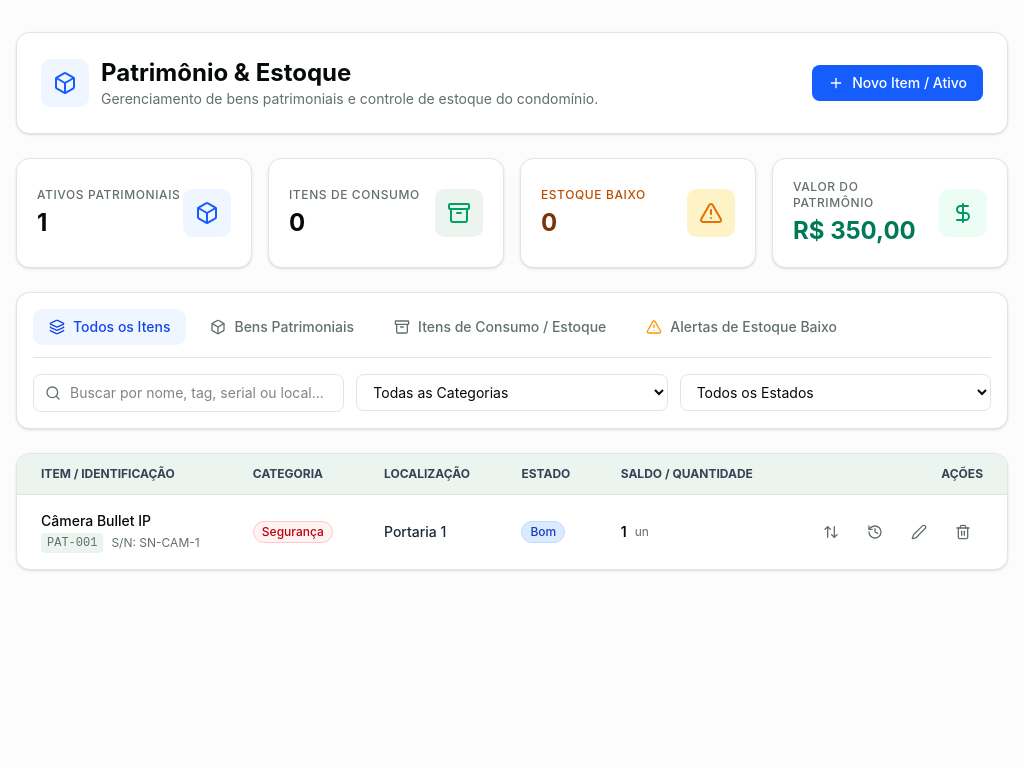
Scenario: AssetsInventoryPage component › opens history modal on history action click
The image size is (1024, 768).
Expected: the text "Câmera Bullet IP" is shown, [41,512,151,529]
Click the button titled "Histórico": (875, 532) [855,516,895,548]
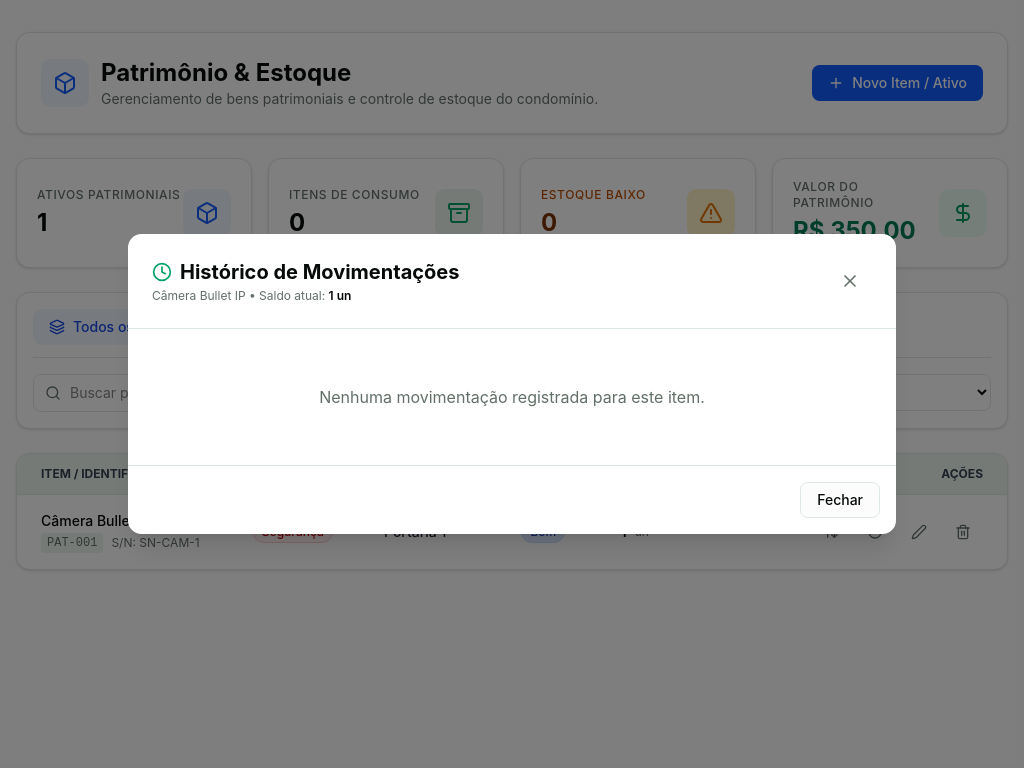
Now the heading "Histórico de Movimentações" is shown, box [152,258,459,286]
